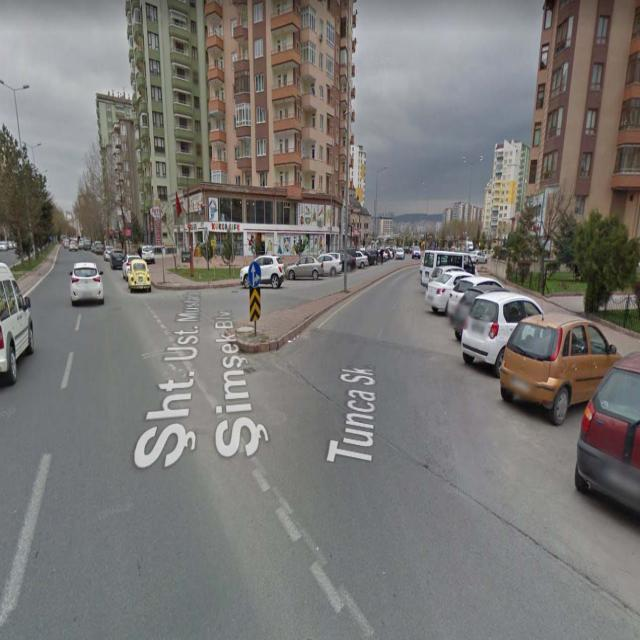ilerisag: (249, 262, 261, 286)
